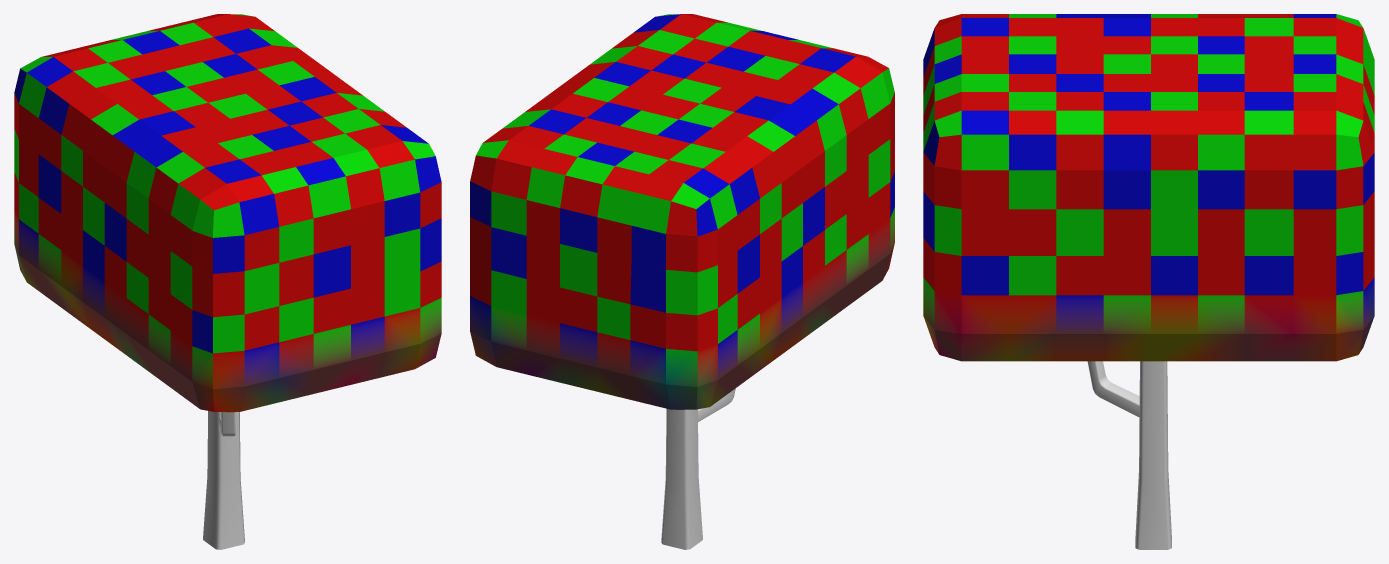
The model's file is Tree_A_04.fbx.
3 views of the same model, side by side, from view 1: azimuth 30°, elevation 25°; view 2: azimuth 150°, elevation 25°; view 3: azimuth 270°, elevation 25° (orthographic). The views are drawn at different scales.
Parts seen in each view (by area): view 1: Tree_A_04_Leaves, Tree_A_04_Trunk; view 2: Tree_A_04_Leaves, Tree_A_04_Trunk; view 3: Tree_A_04_Leaves, Tree_A_04_Trunk.
Boxes of the visible parts, box(x1,y1,x2,y2) form: Tree_A_04_Leaves: box(14, 14, 441, 412); Tree_A_04_Trunk: box(203, 411, 244, 549); Tree_A_04_Leaves: box(470, 14, 894, 409); Tree_A_04_Trunk: box(661, 388, 735, 549); Tree_A_04_Leaves: box(923, 14, 1374, 361); Tree_A_04_Trunk: box(1087, 361, 1171, 549).
Size of the model in its own units: 2.22 by 3.84 by 3.28.
